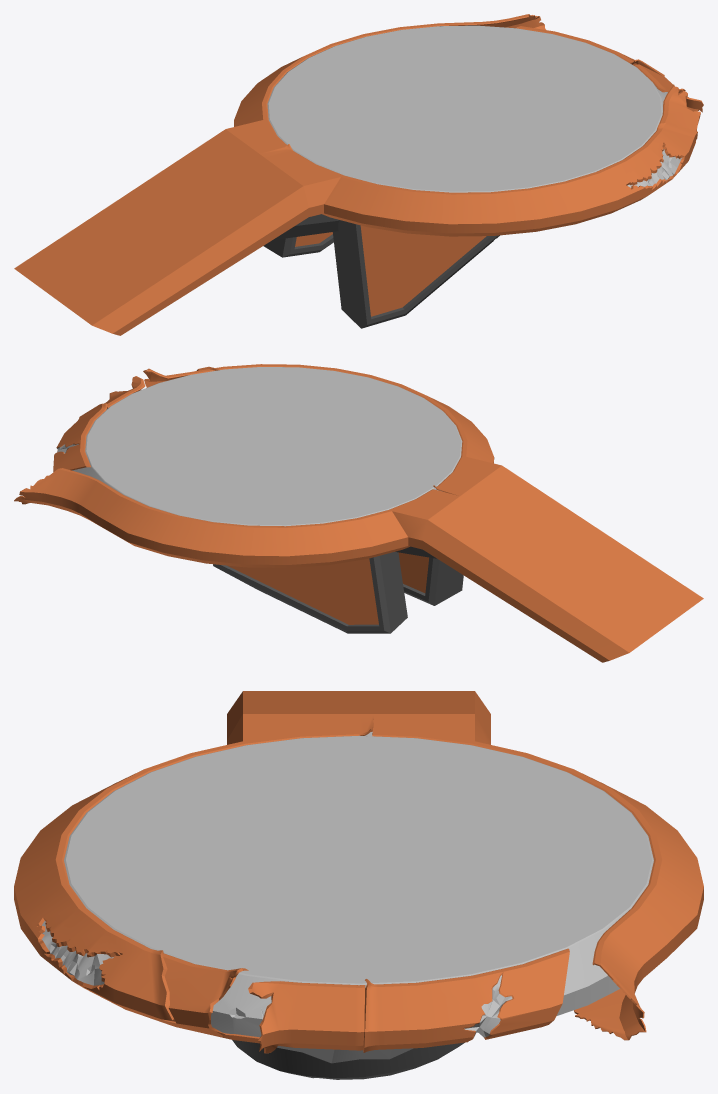
File: env_warehousedestroyed_landingpad_lod0.fbx
The picture shows the model from 3 angles, top to bottom: view 1: azimuth 30°, elevation 25°; view 2: azimuth 150°, elevation 25°; view 3: azimuth 270°, elevation 25°; orthographic projection. The views are drawn at different scales.
Parts seen in each view (by area): view 1: env_warehousedestroyed_landingpad_lod0; view 2: env_warehousedestroyed_landingpad_lod0; view 3: env_warehousedestroyed_landingpad_lod0.
Boxes of the visible parts, x1,y1,x2,y2 form: env_warehousedestroyed_landingpad_lod0: (14,14,703,335); env_warehousedestroyed_landingpad_lod0: (14,364,703,662); env_warehousedestroyed_landingpad_lod0: (14,691,703,1079).
Size of the model in its own units: 259 by 63.86 by 168.
